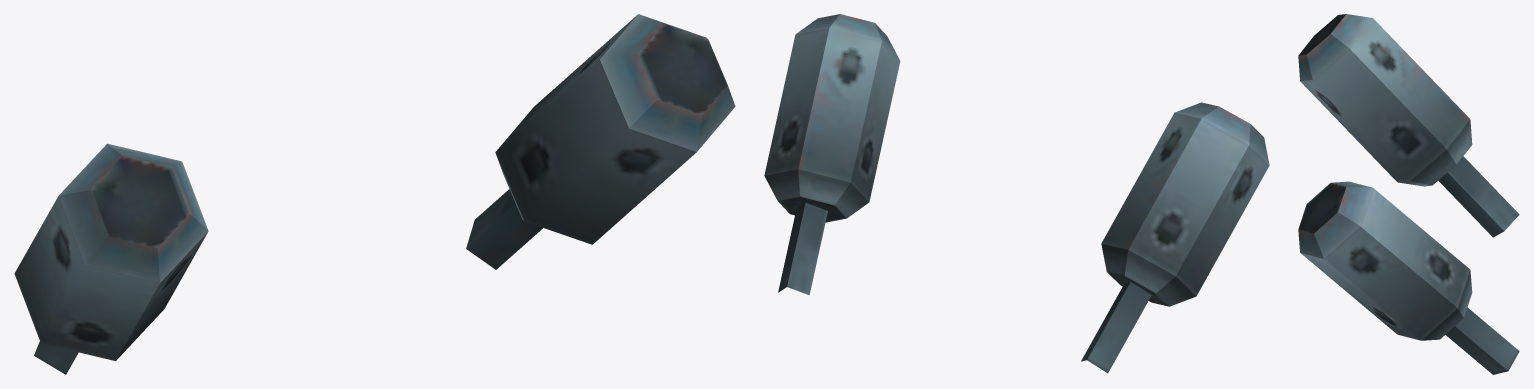
The model's file is Truck 2 Thruster.glb.
3 renders of one model, left to right at view 1: azimuth 30°, elevation 25°; view 2: azimuth 150°, elevation 25°; view 3: azimuth 270°, elevation 25°, orthographic. The views are drawn at different scales.
Parts seen in each view (by area): view 1: thrusters; view 2: thrusters; view 3: thrusters.
Part boxes in pixels (x1,y1,x2,y2): thrusters: (14, 14, 735, 374); thrusters: (764, 14, 1269, 373); thrusters: (1298, 14, 1519, 374).
Bounding box in the file's own units: 1.92 × 0.8861 × 0.8635.
Materials: 1 (1 with a texture image).
